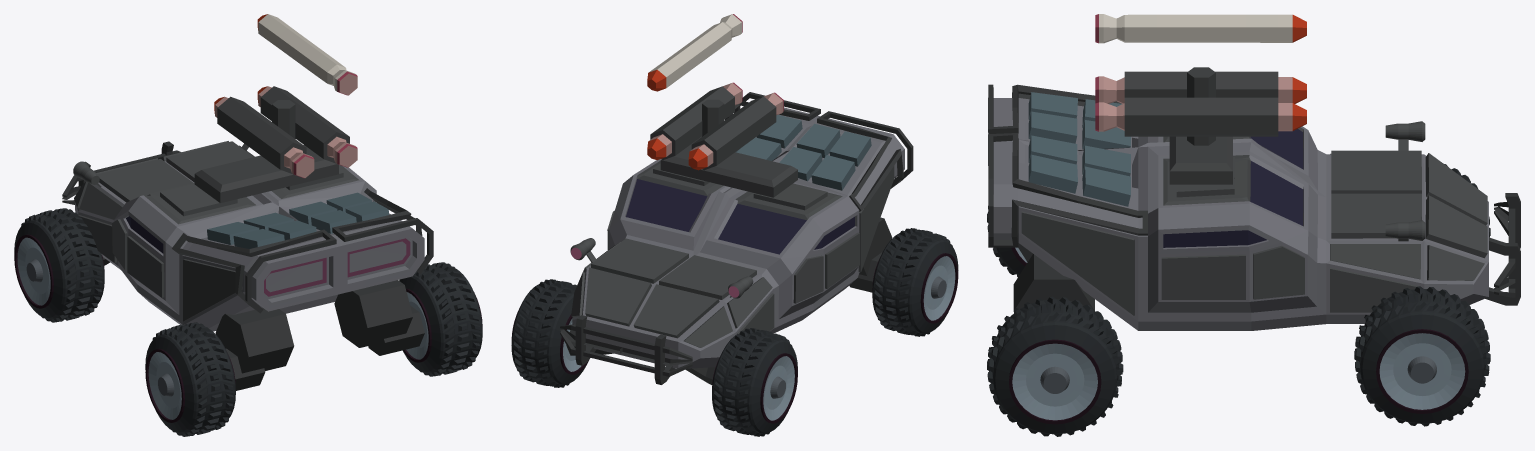
The model's file is Buggy.fbx.
3 renders of one model, left to right at view 1: azimuth 30°, elevation 25°; view 2: azimuth 150°, elevation 25°; view 3: azimuth 270°, elevation 25°, orthographic. The views are drawn at different scales.
Visible parts, largest first — view 1: Cube, Cube.001, Cylinder, Cylinder.004, Cylinder.003, Cube.002; view 2: Cube, Cube.001, Cylinder, Cylinder.004, Cylinder.002, Cube.002; view 3: Cube, Cube.001, Cylinder.003, Cylinder.002, Cube.002, Cylinder.
Part boxes in pixels (x1,y1,x2,y2): Cube: (62,141,433,390); Cube.001: (194,86,357,203); Cylinder: (145,322,235,436); Cylinder.004: (14,208,104,322); Cylinder.003: (399,262,482,376); Cube.002: (257,14,357,95); Cube: (560,92,913,384); Cube.001: (647,82,797,197); Cylinder: (872,228,958,336); Cylinder.004: (712,328,797,436); Cylinder.002: (511,279,589,387); Cube.002: (647,14,742,91); Cube: (988,84,1520,330); Cube.001: (1095,67,1306,184); Cylinder.003: (987,296,1123,436); Cylinder.002: (1354,286,1490,426); Cube.002: (1095,14,1306,43); Cylinder: (987,206,1027,276).
Size of the model in its own units: 7.15 by 6.83 by 8.9.
